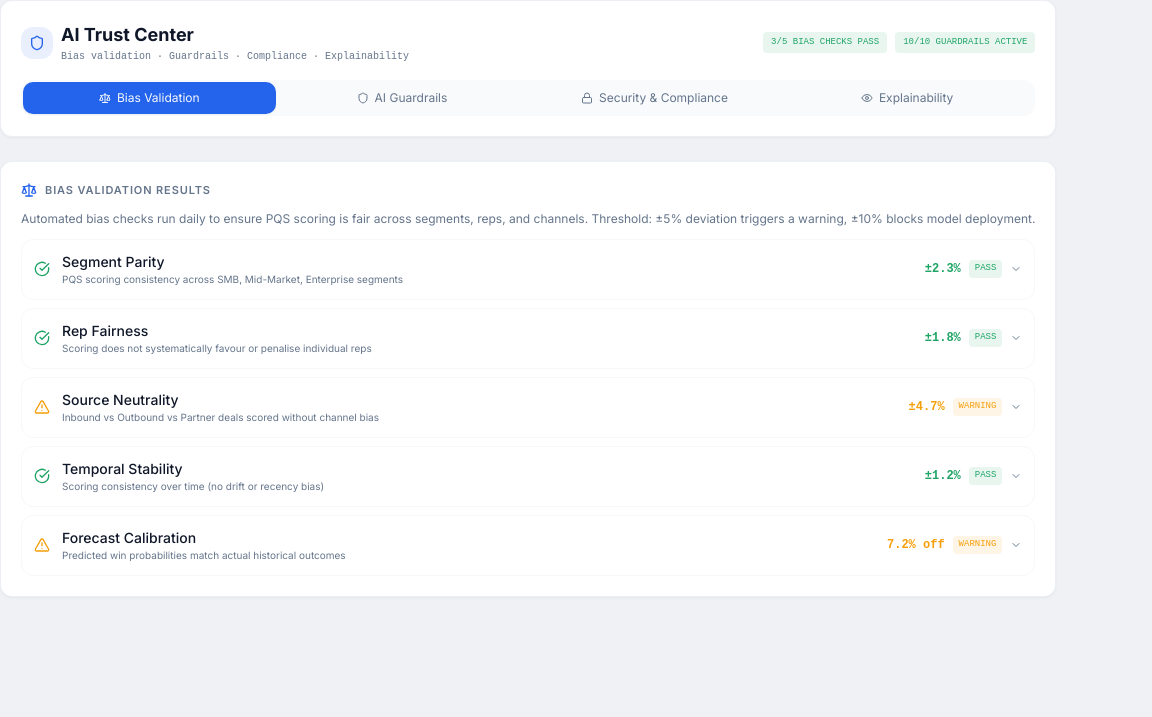
it: AITrustCenter › switches to Security & Compliance tab
Click the button "Security & Compliance" at (654, 98), box [528,82,781,114]
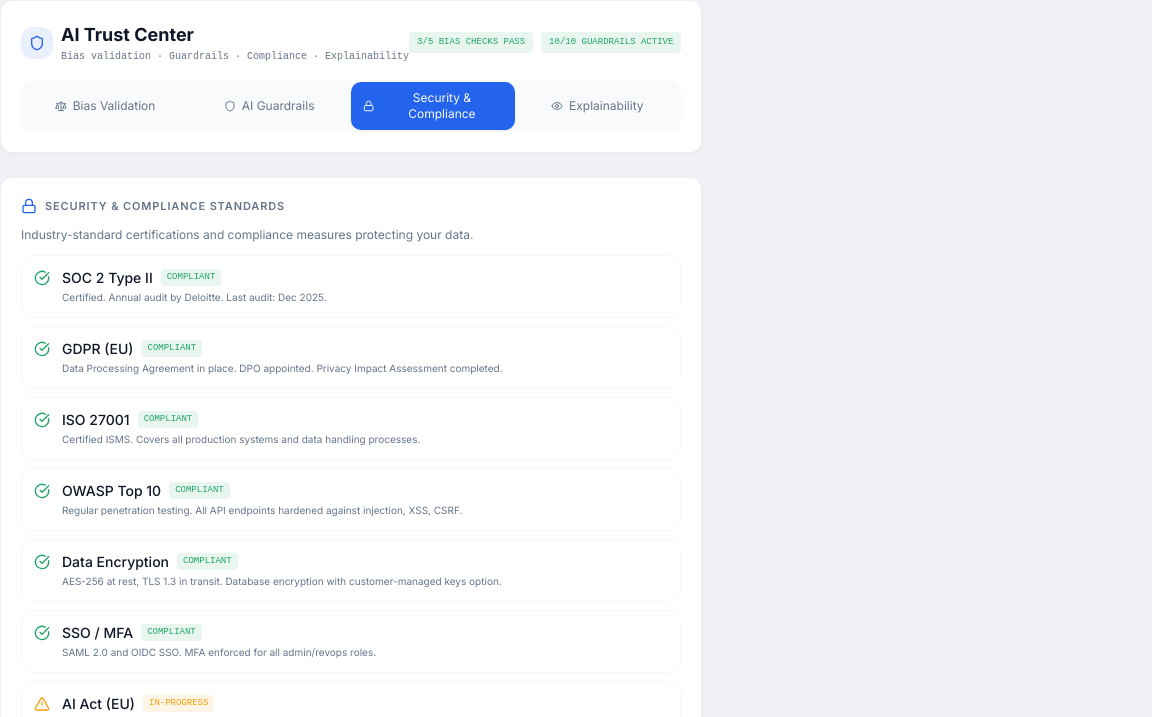
Now the text "SOC 2 Type II" is shown, box [62,268,153,288]
